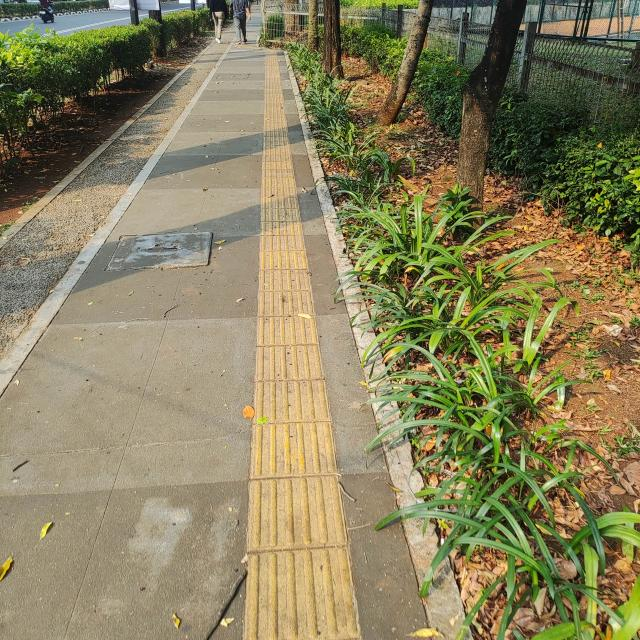lurus: (247, 59, 337, 640)
